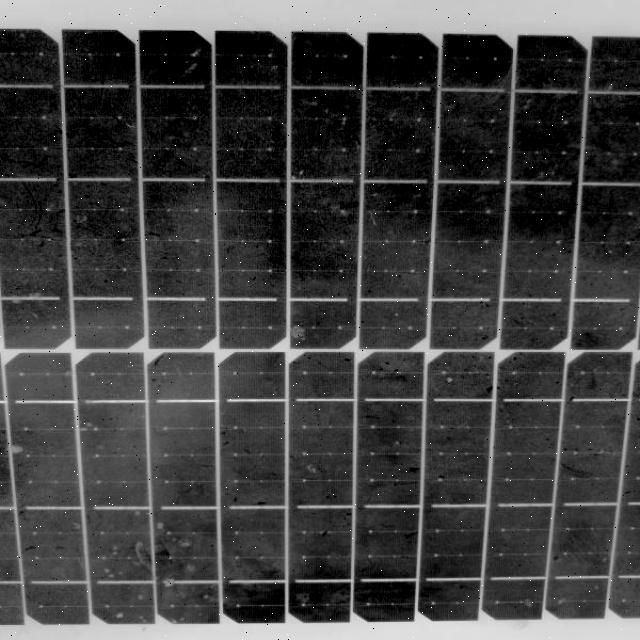Surface Contaminant: (0, 19, 634, 636)
